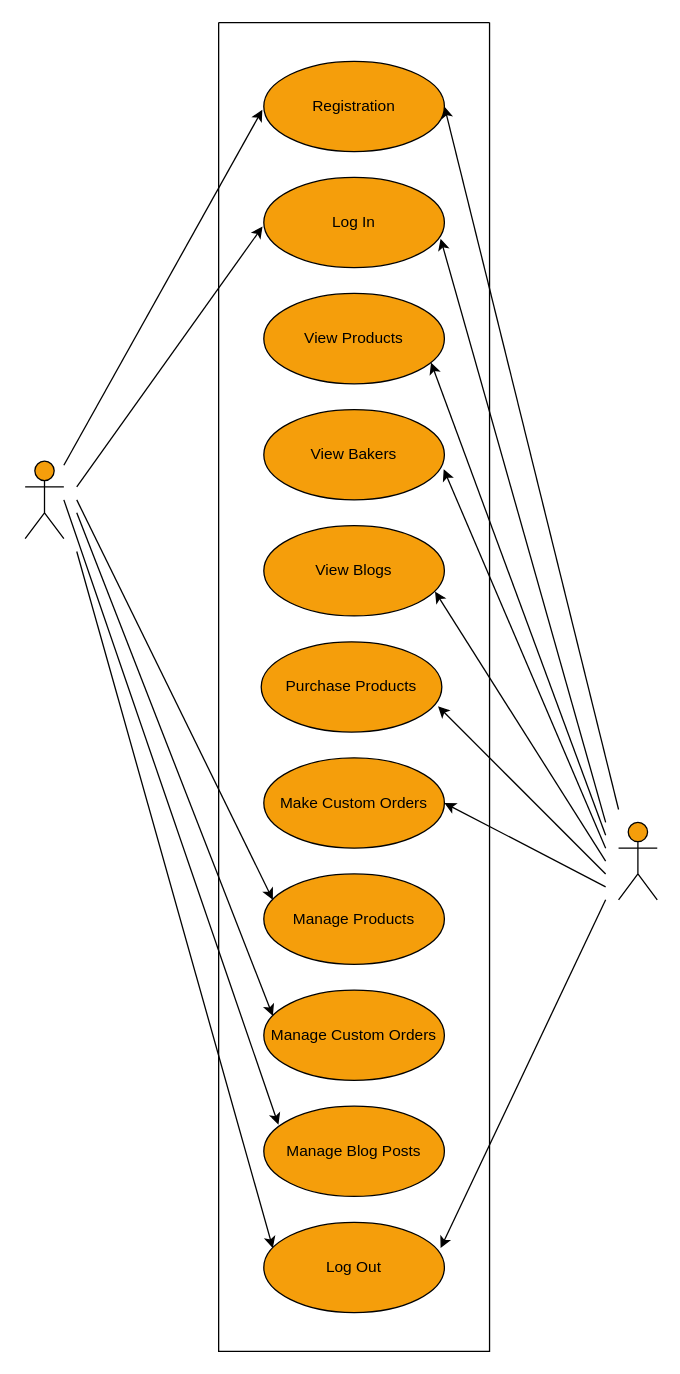
This 680x1374 diagram has some shape labels left out. Here are the shapes that lost their labels. From the top down, the box of each, then its label:
(24, 460, 64, 539): Admin
(617, 821, 657, 900): User
